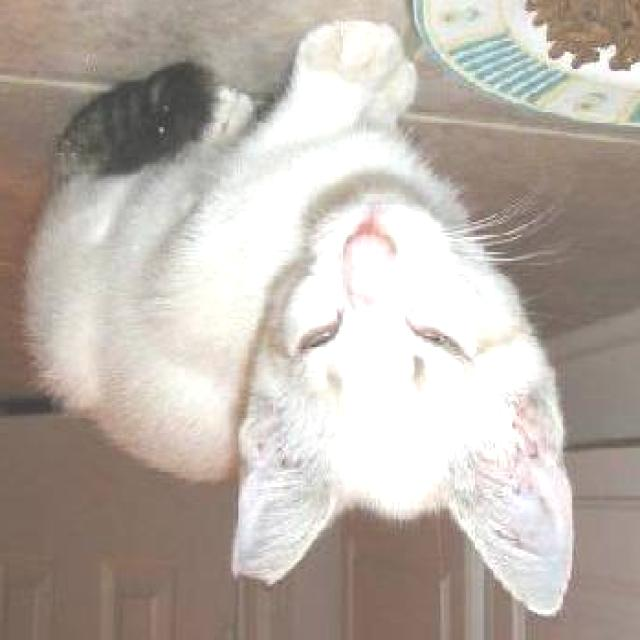Kucing: (0, 81, 596, 633)
